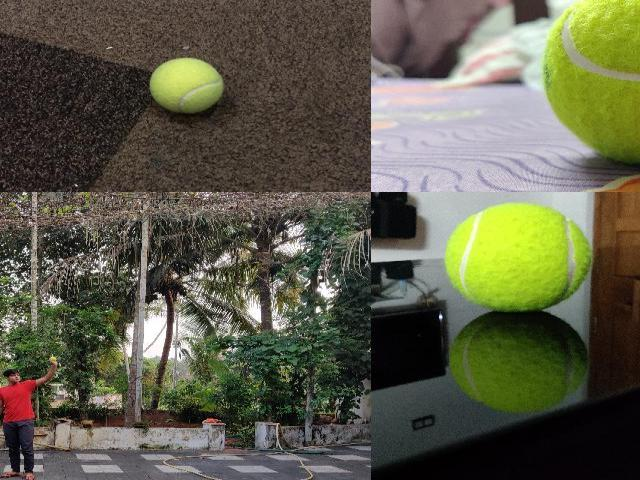tennis-ball: (541, 0, 639, 166), (444, 202, 592, 311), (450, 311, 590, 413), (148, 57, 226, 114), (50, 356, 56, 361)
